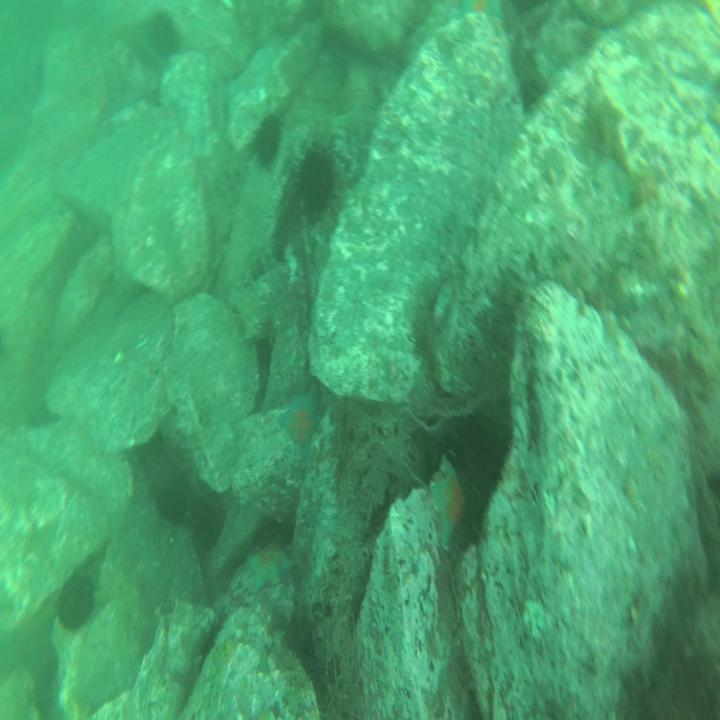echinus: (291, 130, 340, 227), (55, 573, 98, 633), (250, 106, 284, 173), (145, 13, 179, 62)
starfish: (426, 457, 474, 560), (241, 532, 298, 595), (282, 384, 326, 461), (448, 0, 507, 29)
